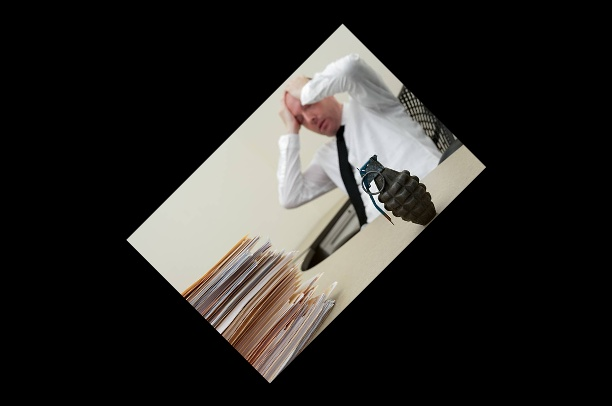e1: (357, 150, 434, 227)
